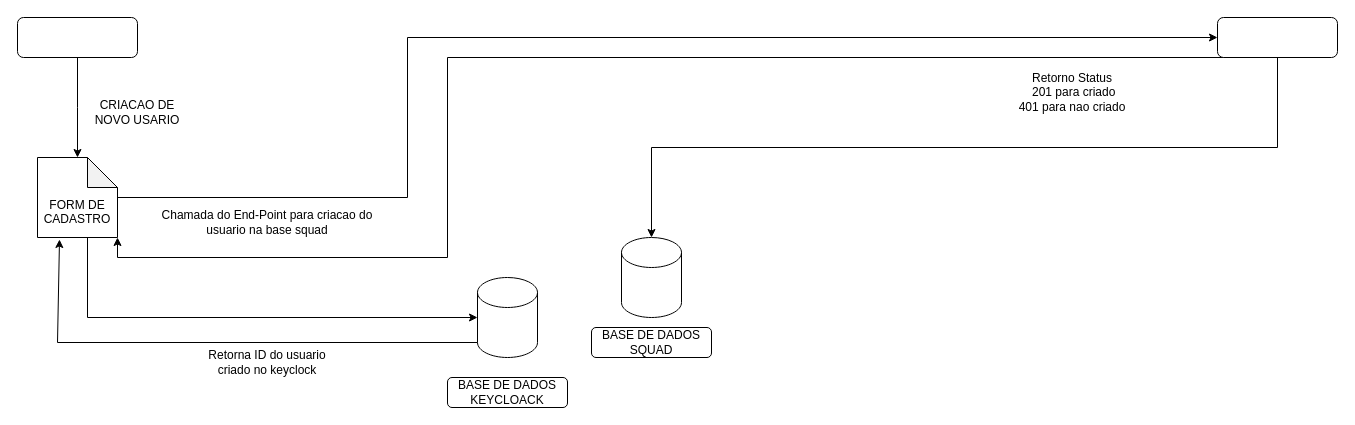
This 1355x425 diagram has some shape labels left out. Each missing label, with the box of its shape:
API SQUAD: (1216, 16, 1338, 58)
CLIENT GOLDEN: (16, 16, 138, 58)
